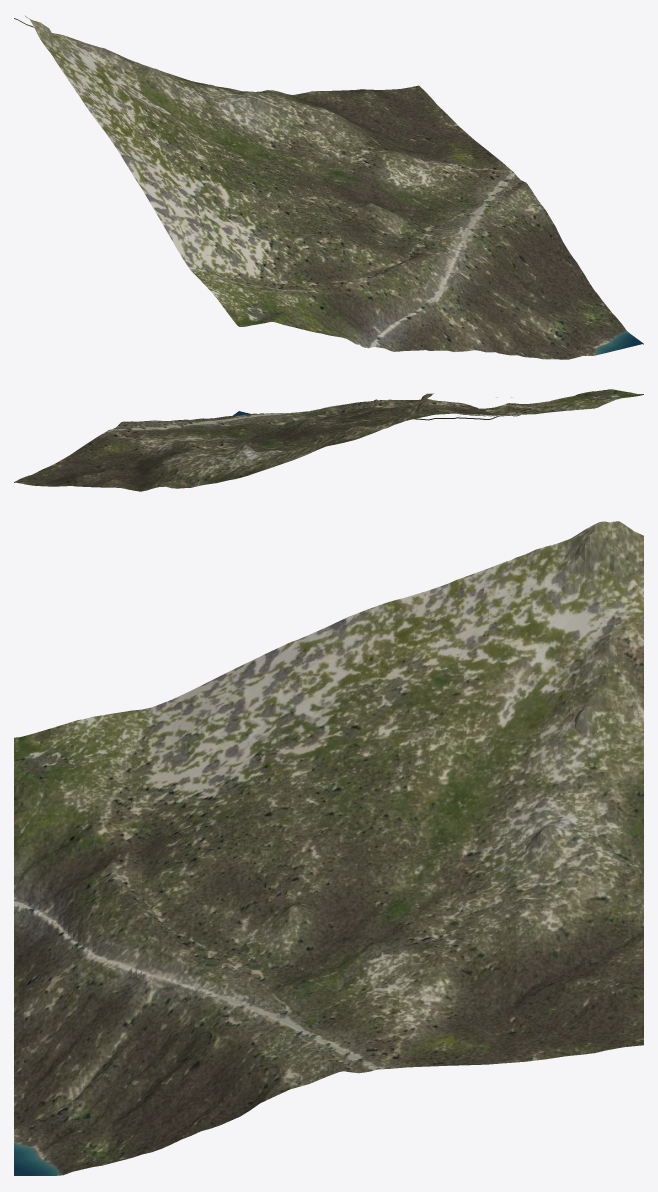
The picture shows the model from 3 angles, top to bottom: view 1: azimuth 30°, elevation 25°; view 2: azimuth 150°, elevation 25°; view 3: azimuth 270°, elevation 25°; orthographic projection. The views are drawn at different scales.
Size of the model in its own units: 1000 by 640 by 963.
1 material, 1 textured.
